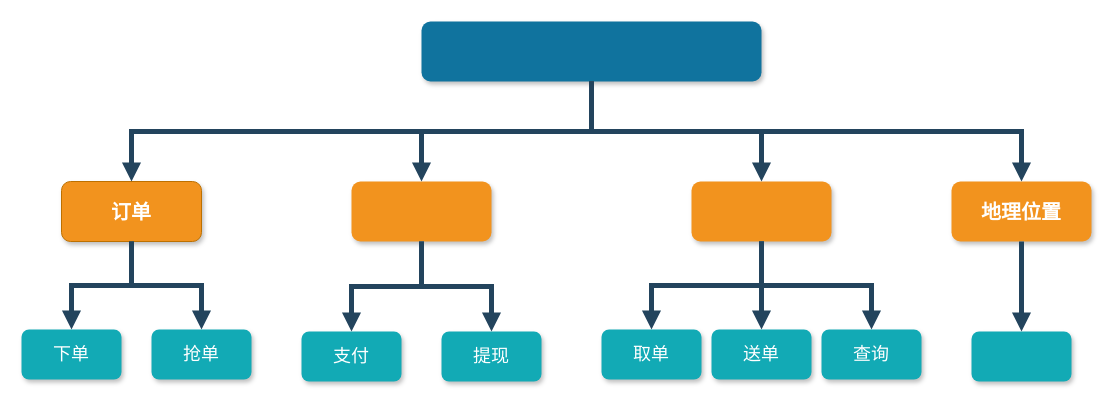
Some shapes in this 1114 by 405 pixel diagram are drawn without their labels. The centre of each missing label's shape, as x and y in pixels:
上报地理 位置: point (1022, 357)
物流: point (762, 212)
财务: point (422, 212)
通达物流系统: point (592, 52)
